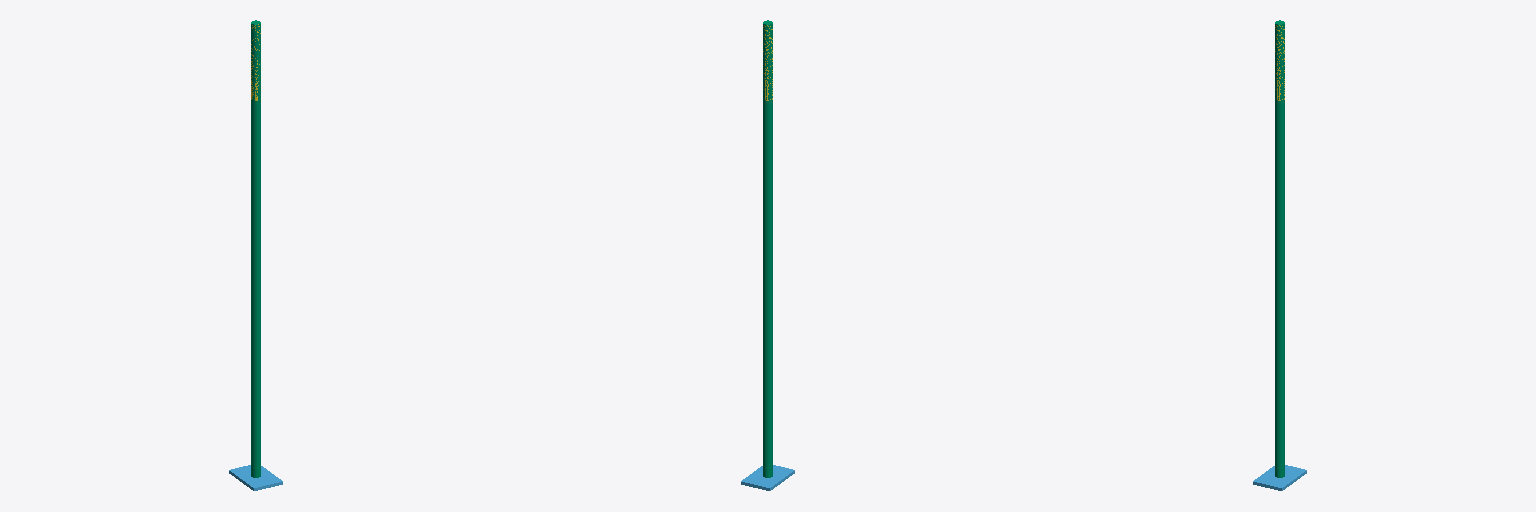
The robot description file, URDF, robot "LISM_Arm":
<?xml version="1.0" ?>
<robot name="LISM_Arm">
     <!--base of fixing arm-->
    <link name="world"/>

    <joint name="worldTobase" type="fixed">
        <parent link="world"/>
        <child link="base"/>
        <origin rpy="0 0 0" xyz="0.0 0.0 0.0"/>
    </joint>
    
    <link name="base">
        <visual>
            <origin rpy="0.0 0.0 0.0" xyz="0 0 0.01"/>
            <geometry>
                <box size = "0.2 0.3 0.02"/>
            </geometry>
        </visual>
    </link>

    <joint name="BaseToLink" type="revolute">
        <axis xyz="-1 0 0"/>
        <origin rpy="0 0 0" xyz="0.0 0.0 0.0"/>
        <parent link="base"/>
        <child link="link1"/>
    </joint>

    <link name="link1">
        <visual>
            <origin rpy="0.0 0.0 0.0" xyz="0 0 1.5"/>
            <geometry>
                <cylinder length="3" radius="0.03"/>
            </geometry>
        </visual>
        <inertial>
            <mass value="10"/>
            <origin rpy="0.0 0.0 0.0" xyz="0 0 1.5"/>
            <inertia ixx="7.5" ixy="0" ixz="0.0" iyy="7.5" iyz="0" izz="0.000225"/>
        </inertial>
    </link>

    <joint name="l12l2" type="revolute">
        <axis xyz="-1 0 0"/>
        <origin rpy="0 0 0" xyz="0.0 0.0 3"/>
        <parent link="link1"/>
        <child link="link2"/>
    </joint>

    <link name="link2">
        <visual>
            <origin rpy="0.0 0.0 0.0" xyz="0 0 -0.25"/>
            <geometry>
                <cylinder length="0.5" radius="0.03"/>
            </geometry>
        </visual>
        <inertial>
            <mass value="1"/>
            <origin rpy="0.0 0.0 0.0" xyz="0 0 -0.25"/>
            <inertia ixx="0.0208" ixy="0" ixz="0.0" iyy="2" iyz="0" izz="0.000225"/>
        </inertial>
    </link>

</robot>

--- What the picture shows (computed from the rendered views, not written in the file) ---
Views: 3 orthographic renders of the robot side by side, from view 1: azimuth 30°, elevation 25°; view 2: azimuth 150°, elevation 25°; view 3: azimuth 330°, elevation 25°.
Robot: LISM_Arm — 4 links, 3 joints (2 revolute, 1 fixed); root link world; default pose: all joints at 0.
Links seen in each view (by area): view 1: link1, base; view 2: link1, base; view 3: link1, base.
Link boxes in pixels (x1,y1,x2,y2): link1: [251, 20, 260, 477]; base: [229, 465, 282, 490]; link1: [763, 20, 772, 477]; base: [741, 465, 794, 490]; link1: [1275, 20, 1284, 477]; base: [1253, 465, 1306, 490].
Bounding box of the posed robot: 0.2 × 0.3 × 3 m (x, y, z).
Geometry: primitives only (box / cylinder / sphere), no mesh files.
